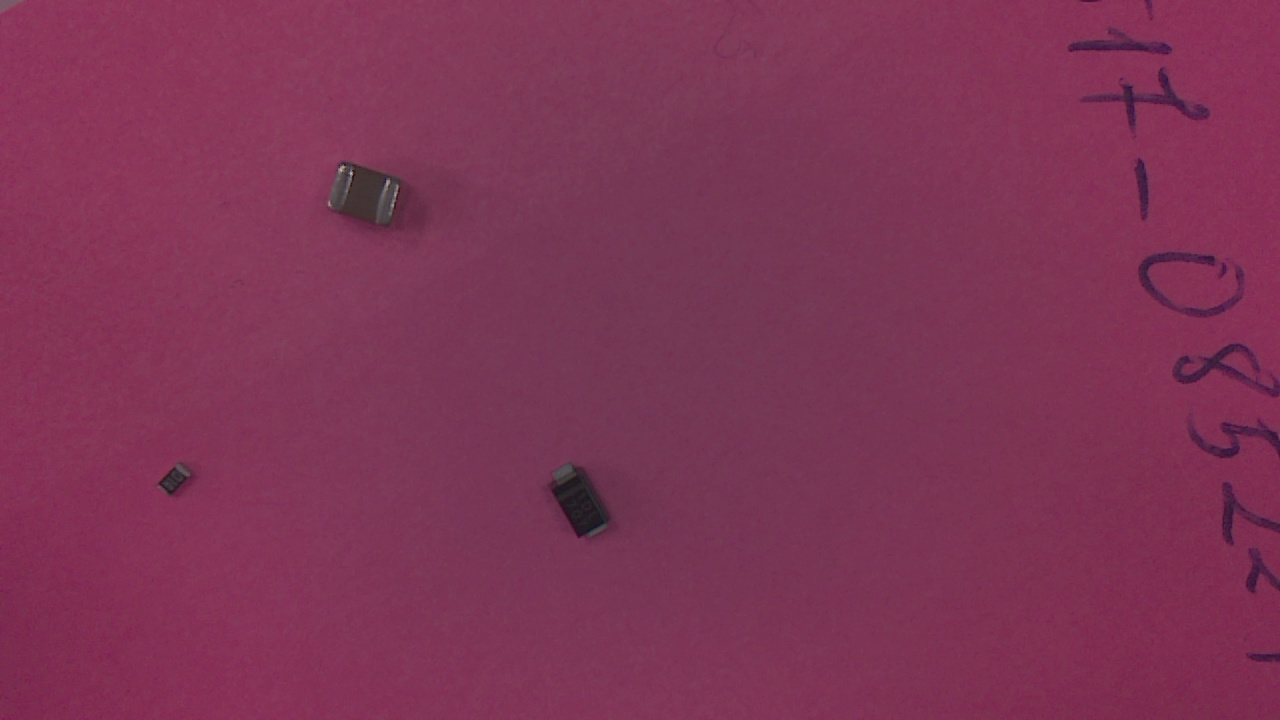Condensator: (327, 163, 411, 239)
Diode: (550, 469, 621, 547)
Resistor: (160, 465, 197, 502)
